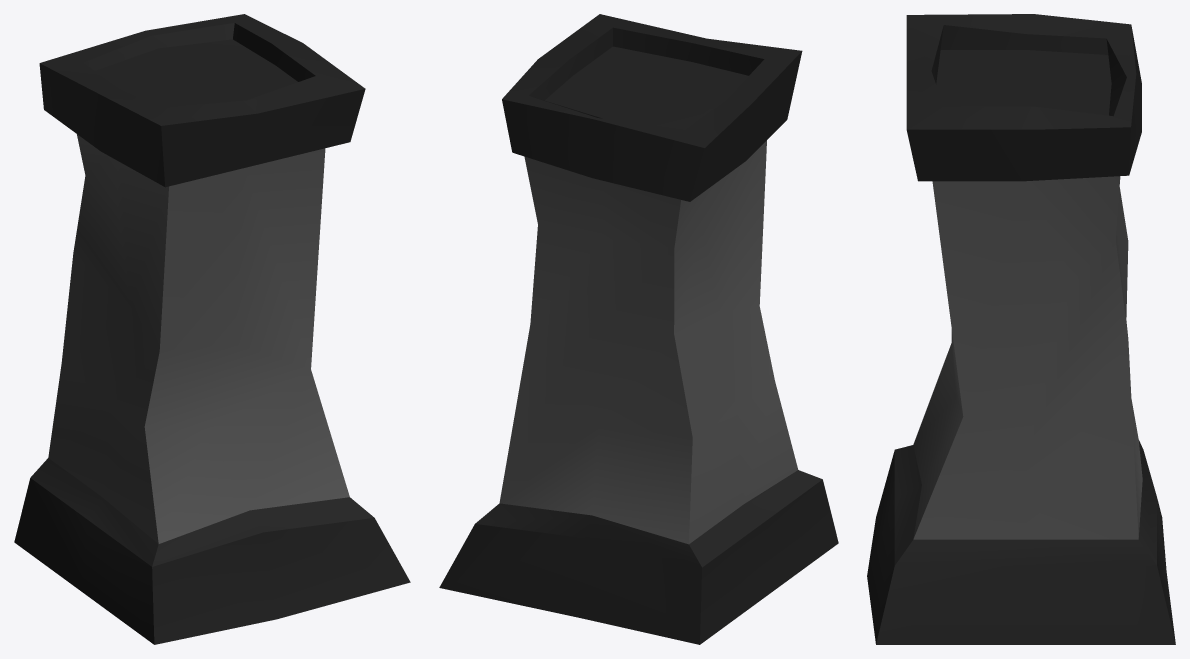
The model's file is Pillar_dent_C.fbx.
3 views of the same model, side by side, from view 1: azimuth 30°, elevation 25°; view 2: azimuth 150°, elevation 25°; view 3: azimuth 270°, elevation 25° (orthographic). The views are drawn at different scales.
Visible parts, largest first — view 1: Pillar_dent_C; view 2: Pillar_dent_C; view 3: Pillar_dent_C.
Boxes of the visible parts, x1=… form: Pillar_dent_C: x1=14, y1=14, x2=410, y2=644; Pillar_dent_C: x1=439, y1=14, x2=838, y2=644; Pillar_dent_C: x1=867, y1=14, x2=1175, y2=644.
Size of the model in its own units: 50.96 by 95.49 by 52.09.
